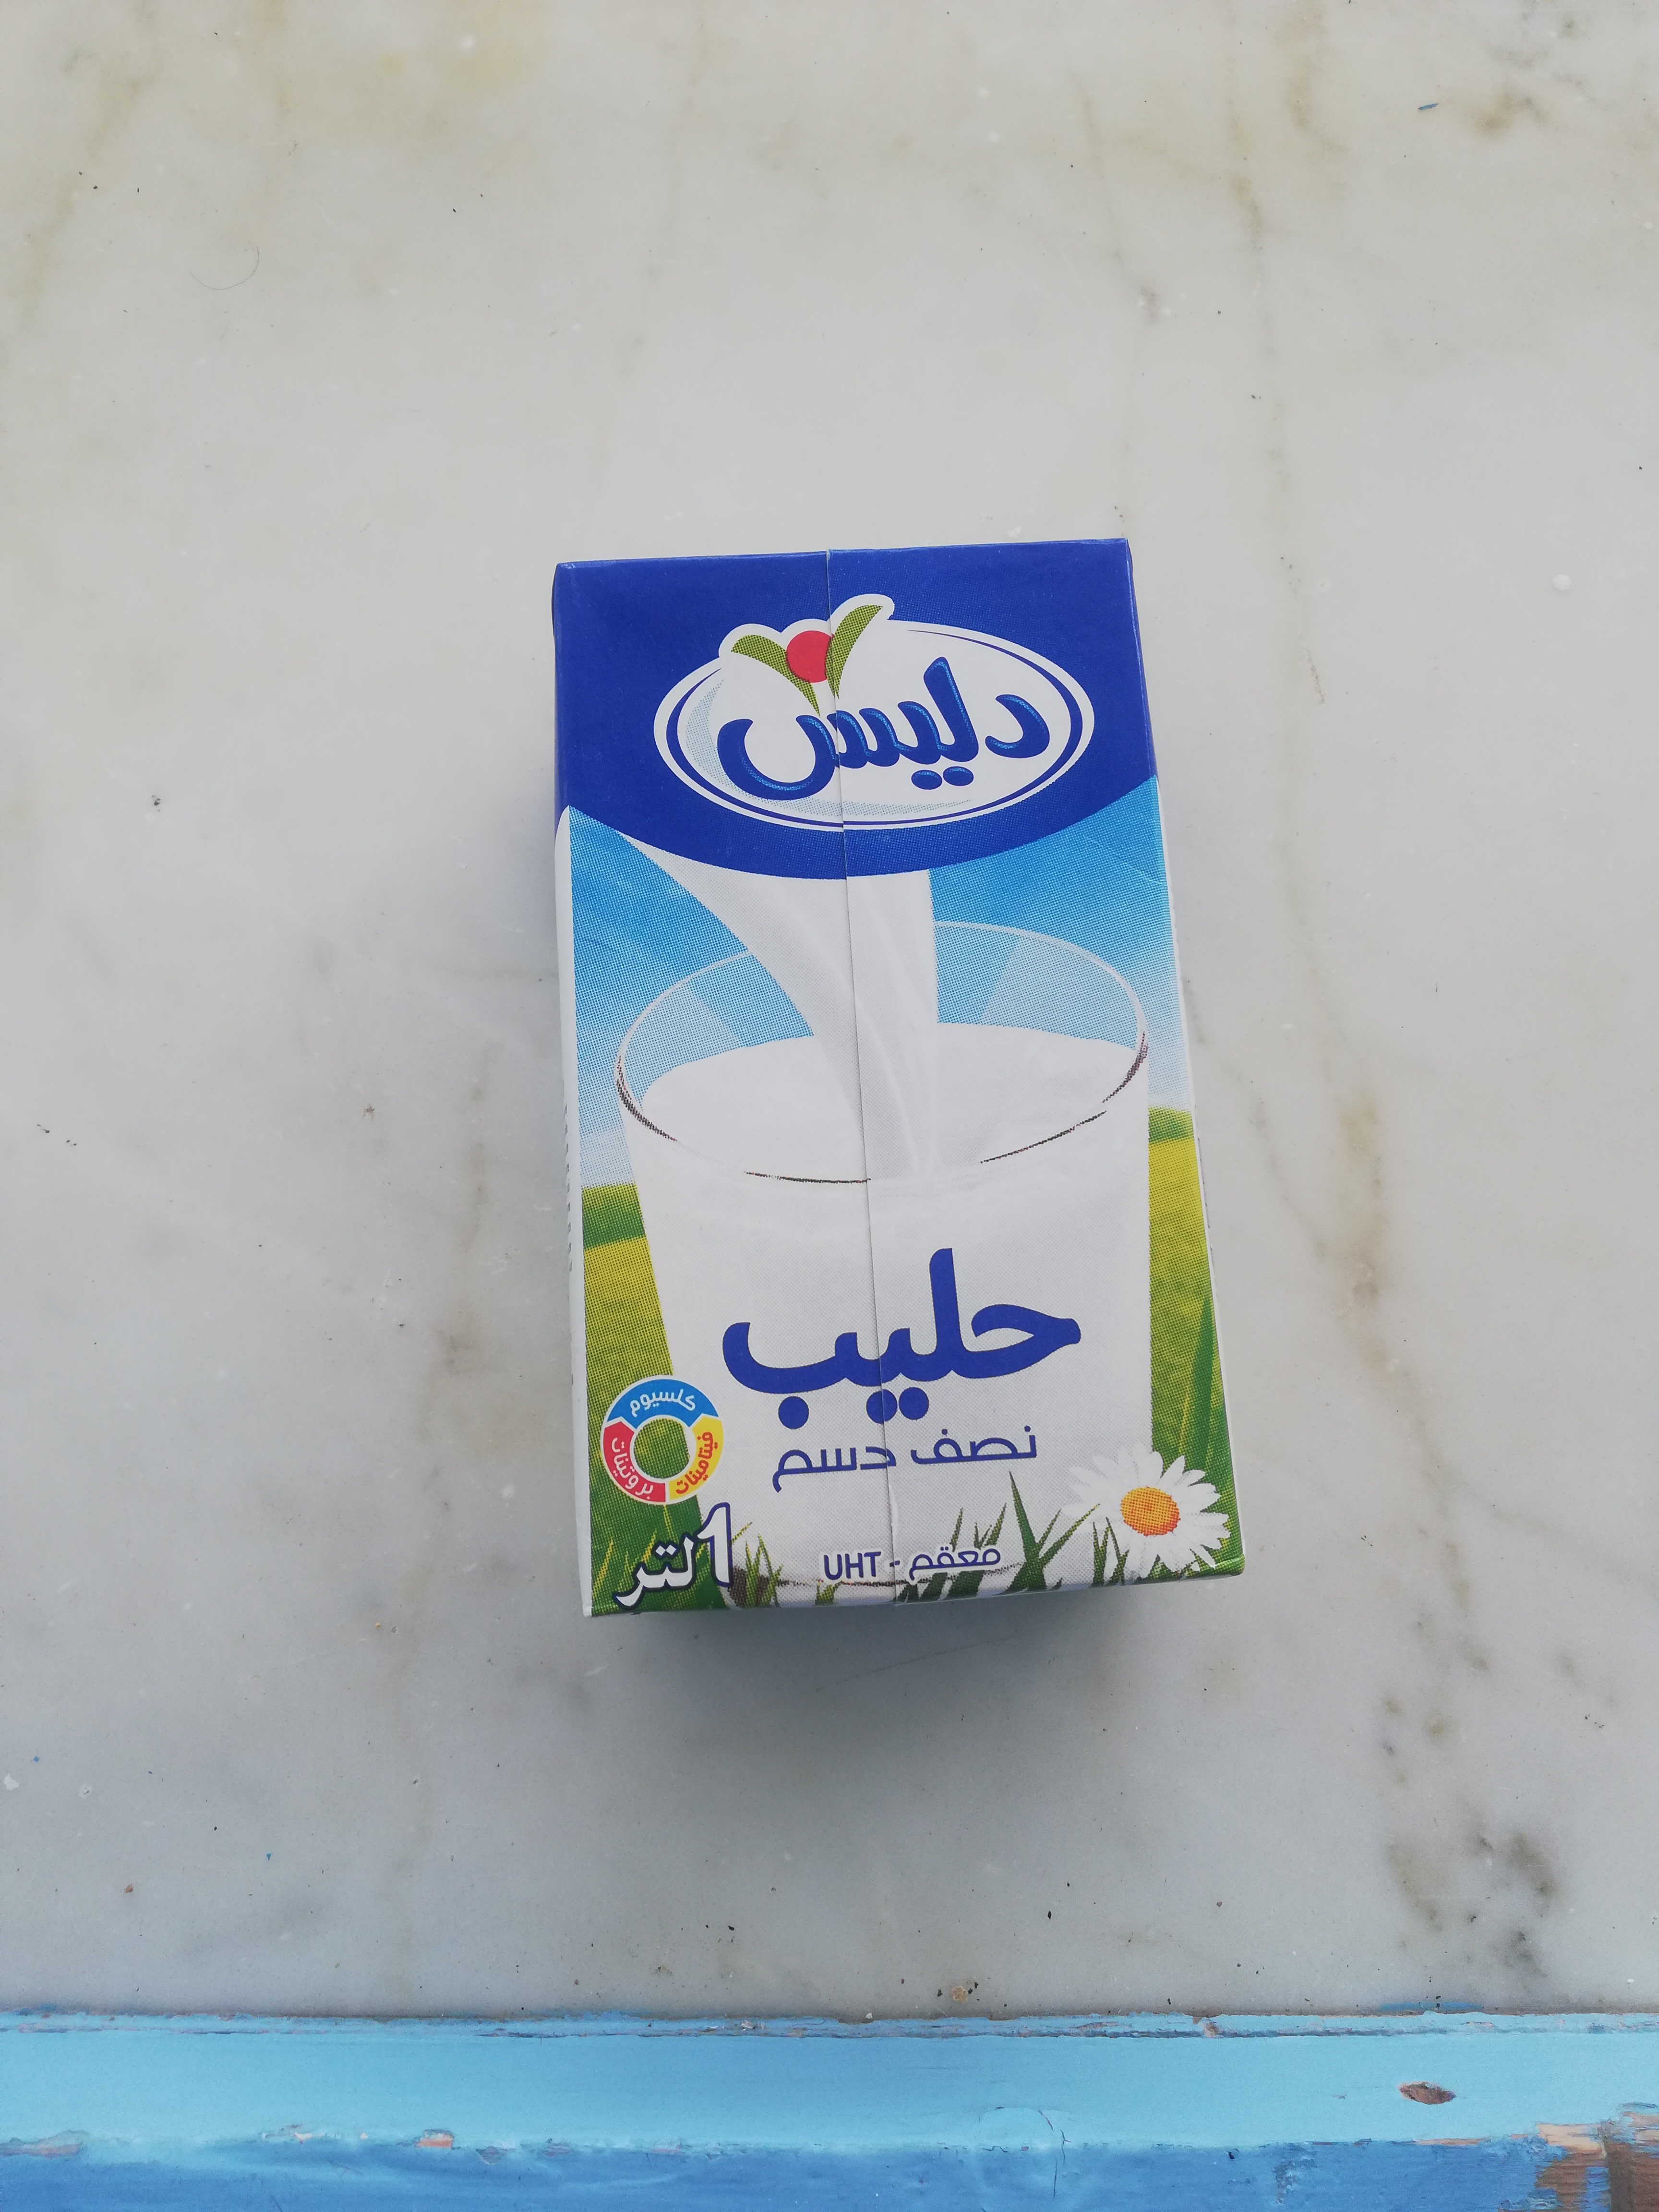Lait delice: (545, 536, 1244, 1623)
